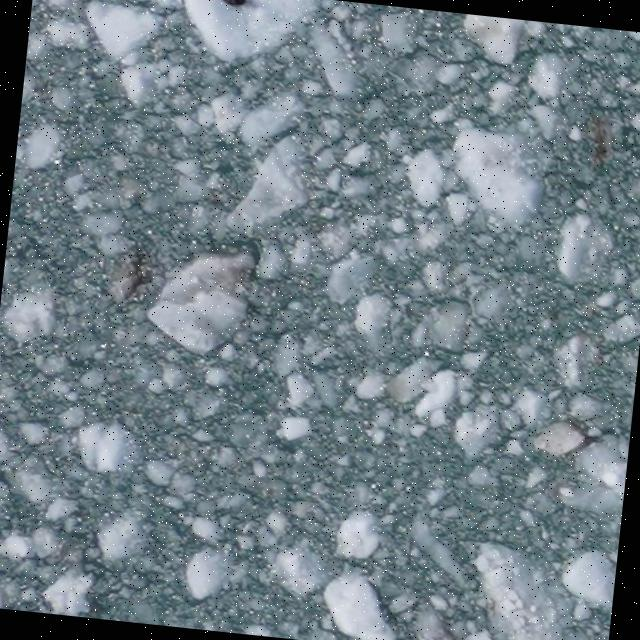seal: (224, 0, 246, 6)
